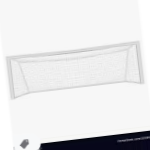goals: (5, 40, 147, 102)
